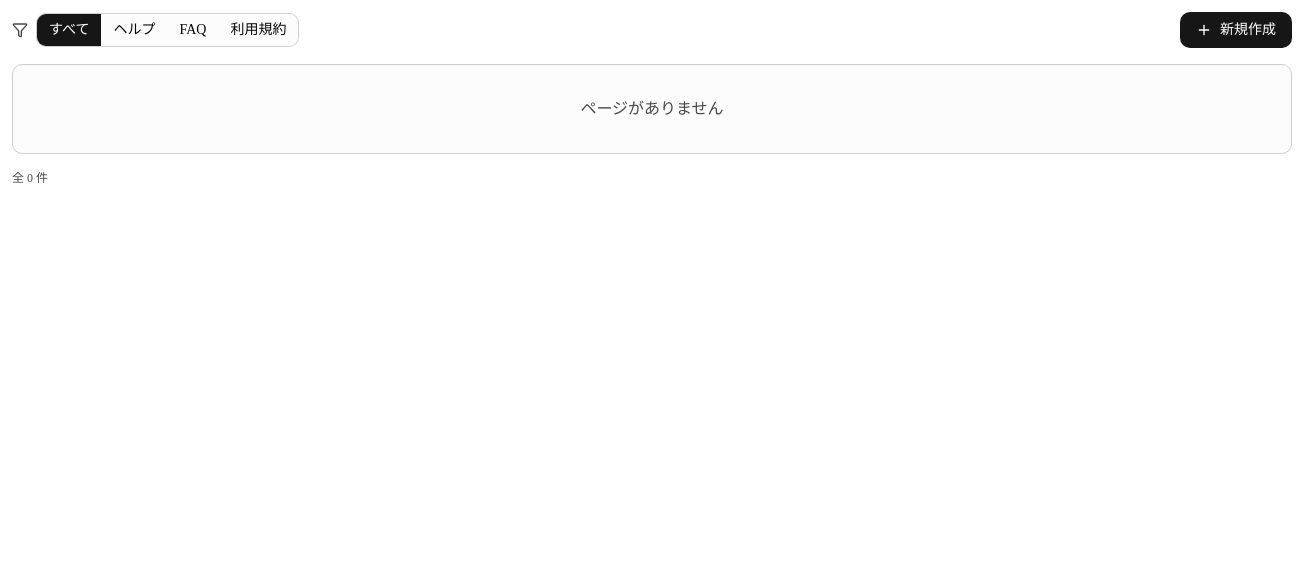
CmsPageList › toggles create form
Click the button "新規作成". click: x=1236, y=30
box: [1180,12,1292,48]
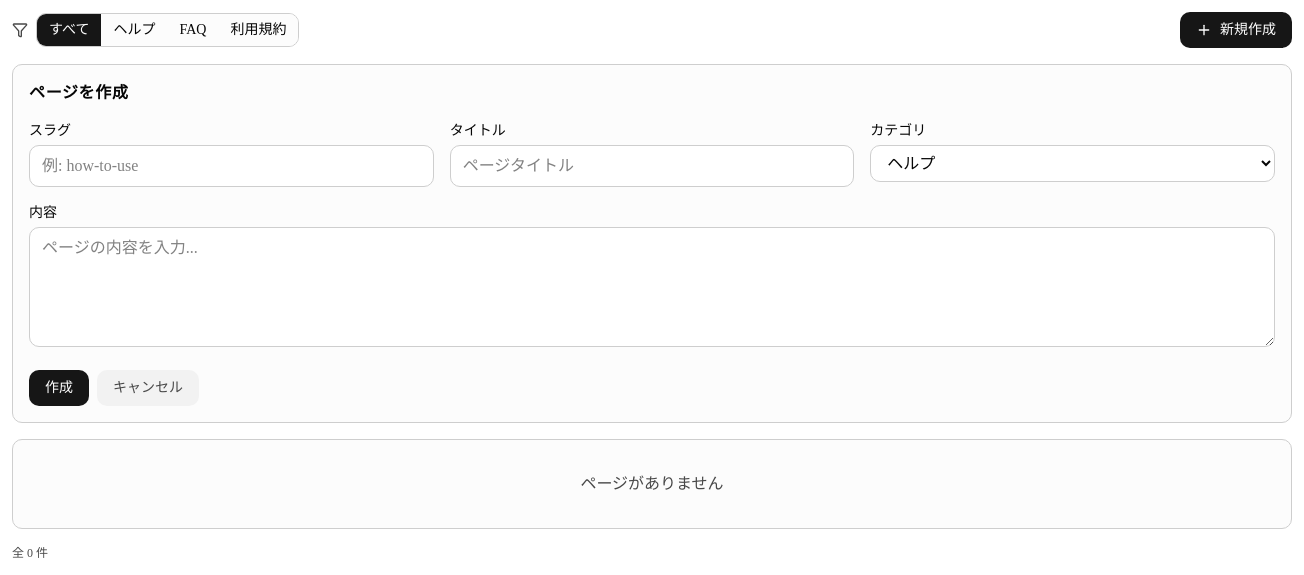
Result: the heading "ページを作成" is shown at [29,84,128,101]
Note: Click again to close
Click the button "キャンセル". click: x=148, y=388
box: [97,370,199,406]
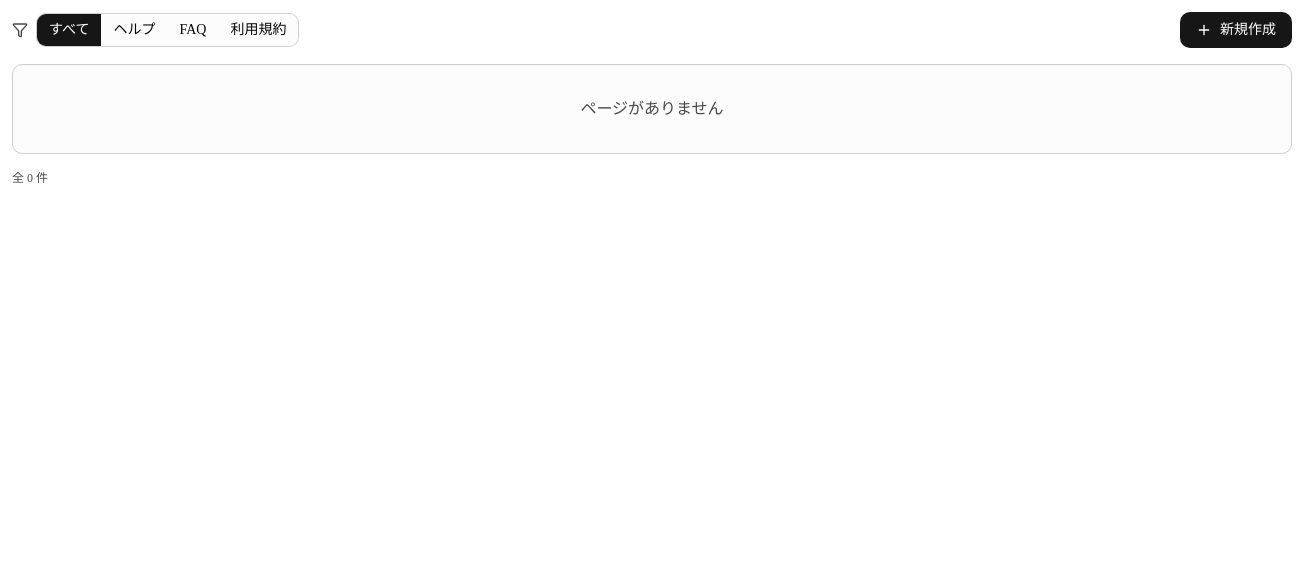
Result: the heading "ページを作成" is gone
